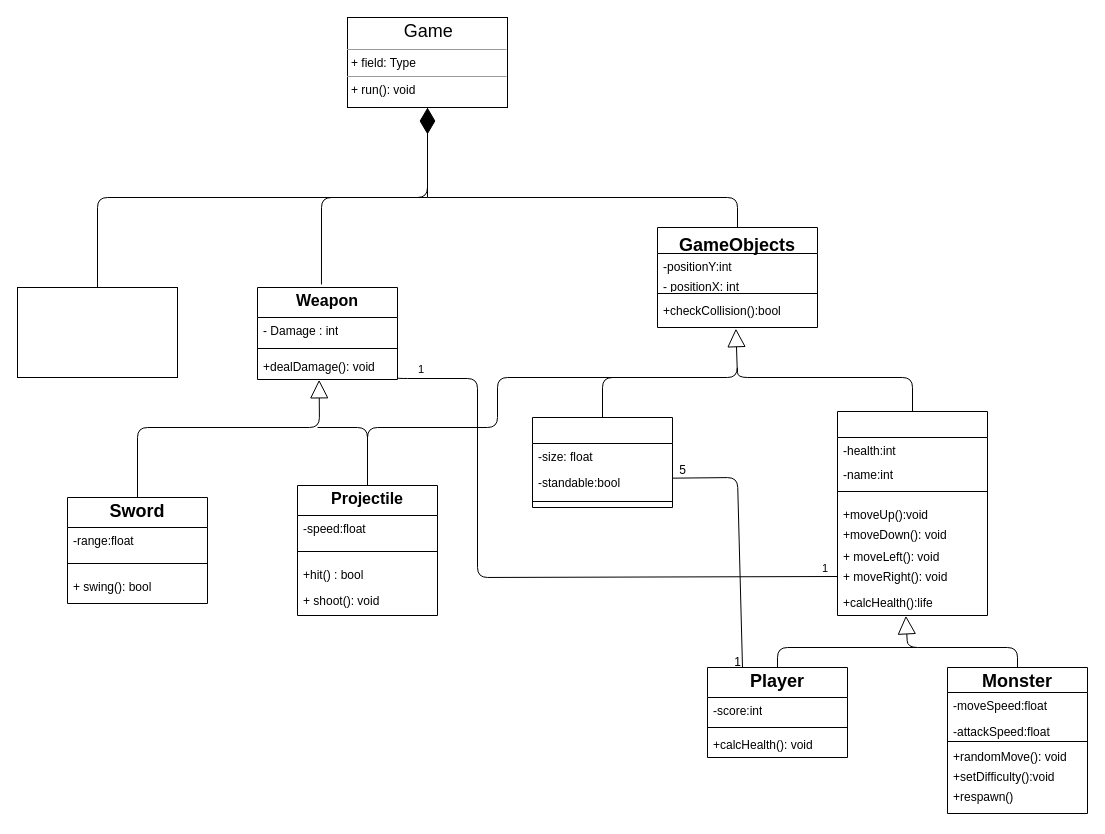
Some shapes in this 1105 by 834 pixel diagram are drawn without their labels. Each missing label, with the box of its shape:
Character: (836, 410, 988, 616)
Platform: (532, 416, 672, 508)
Timer -clock: sf::clock + getTime(): float: (16, 286, 178, 378)
